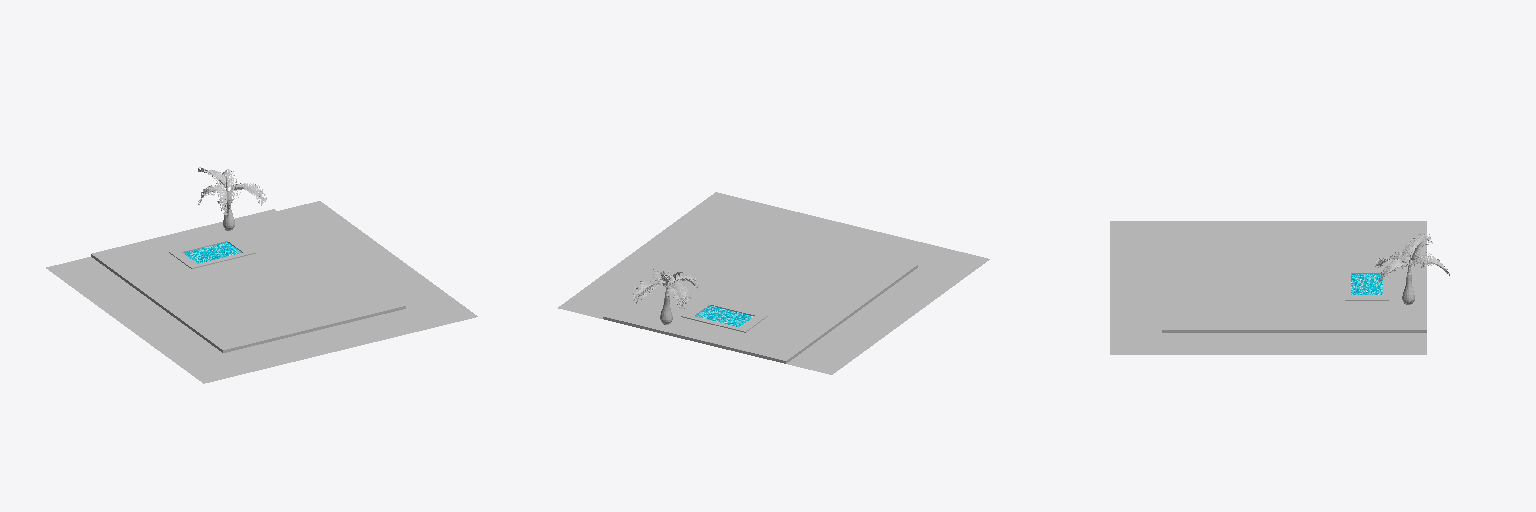
The picture shows the model from 3 angles: view 1: azimuth 30°, elevation 25°; view 2: azimuth 150°, elevation 25°; view 3: azimuth 270°, elevation 25°; orthographic projection.
Visible parts, largest first — view 1: pasto, carretera_frente, carretera_lateral_1, carretera_lateral_2, banqueta_lateral_1, banqueta_lateral_2, banqueta_frente, Hyophorbe_lagenicaulis, base_alberca, water_alberca; view 2: pasto, carretera_frente, carretera_lateral_1, carretera_lateral_2, banqueta_lateral_1, banqueta_lateral_2, banqueta_frente, Hyophorbe_lagenicaulis, base_alberca, water_alberca; view 3: pasto, carretera_frente, carretera_lateral_2, carretera_lateral_1, banqueta_lateral_2, banqueta_lateral_1, banqueta_frente, Hyophorbe_lagenicaulis, base_alberca, water_alberca.
Boxes of the visible parts, <box> form: pasto: <box>119,216,362,331</box>; carretera_frente: <box>178,298,477,383</box>; carretera_lateral_1: <box>46,257,222,364</box>; carretera_lateral_2: <box>278,201,451,308</box>; banqueta_lateral_1: <box>91,247,250,352</box>; banqueta_lateral_2: <box>248,209,405,314</box>; banqueta_frente: <box>235,301,378,345</box>; Hyophorbe_lagenicaulis: <box>198,167,266,230</box>; base_alberca: <box>169,236,255,268</box>; water_alberca: <box>184,242,241,263</box>; pasto: <box>630,238,874,356</box>; carretera_frente: <box>690,192,989,277</box>; carretera_lateral_1: <box>787,267,963,374</box>; carretera_lateral_2: <box>558,211,730,318</box>; banqueta_lateral_1: <box>759,258,917,363</box>; banqueta_lateral_2: <box>603,220,762,325</box>; banqueta_frente: <box>748,227,889,268</box>; Hyophorbe_lagenicaulis: <box>632,269,699,324</box>; base_alberca: <box>681,300,767,332</box>; water_alberca: <box>695,305,753,326</box>; pasto: <box>1194,254,1426,315</box>; carretera_frente: <box>1110,221,1161,354</box>; carretera_lateral_2: <box>1162,333,1426,354</box>; carretera_lateral_1: <box>1162,221,1426,239</box>; banqueta_lateral_2: <box>1162,316,1426,332</box>; banqueta_lateral_1: <box>1162,240,1426,253</box>; banqueta_frente: <box>1162,254,1193,315</box>; Hyophorbe_lagenicaulis: <box>1375,233,1449,304</box>; base_alberca: <box>1345,268,1388,300</box>; water_alberca: <box>1351,274,1382,294</box>.
Bounding box in the file's own units: 30 × 6.68 × 32.23.
Materials: 7 (1 with a texture image).